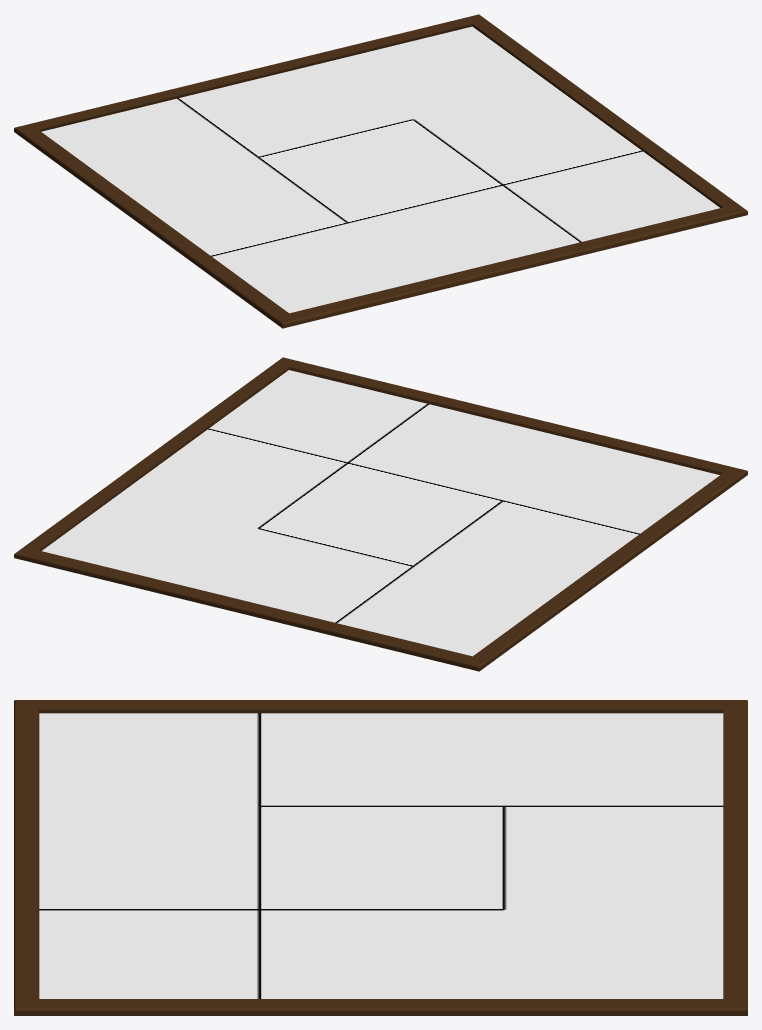
Rendered from frame1frontView.glb.
3 renders of one model, top to bottom at view 1: azimuth 30°, elevation 25°; view 2: azimuth 150°, elevation 25°; view 3: azimuth 270°, elevation 25°, orthographic. The views are drawn at different scales.
Visible parts, largest first — view 1: Plane; view 2: Plane; view 3: Plane.
Boxes of the visible parts, <box> form: Plane: <box>14,14,747,328</box>; Plane: <box>14,357,747,671</box>; Plane: <box>14,700,747,1015</box>.
Size of what is drawn, in the model's own units: 2 by 0.02 by 2.
Materials: 2 (1 with a texture image).
